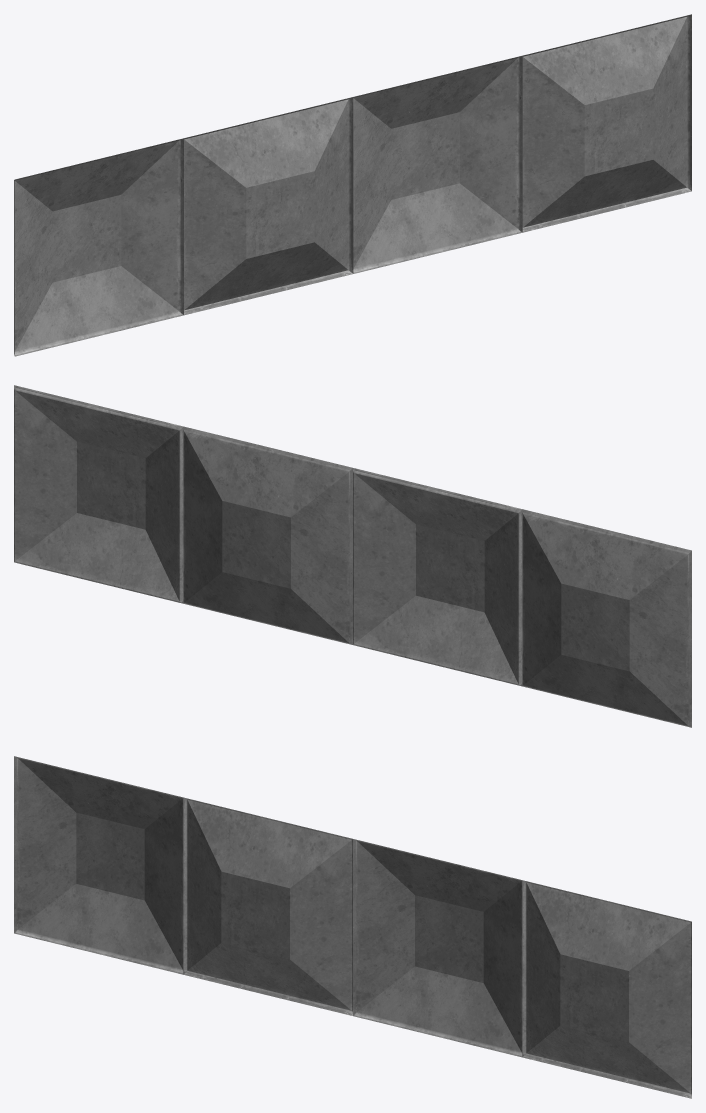
Rendered from SM_Wall_19.fbx.
The picture shows the model from 3 angles, top to bottom: view 1: azimuth 30°, elevation 25°; view 2: azimuth 150°, elevation 25°; view 3: azimuth 330°, elevation 25°; orthographic projection.
Visible parts, largest first — view 1: SM_Wall_19; view 2: SM_Wall_19; view 3: SM_Wall_19.
Part boxes in pixels (<box>): SM_Wall_19: <box>14,14,691,356</box>; SM_Wall_19: <box>14,385,691,727</box>; SM_Wall_19: <box>14,756,691,1098</box>.
Size of the model in its own units: 400 by 100 by 24.75.
